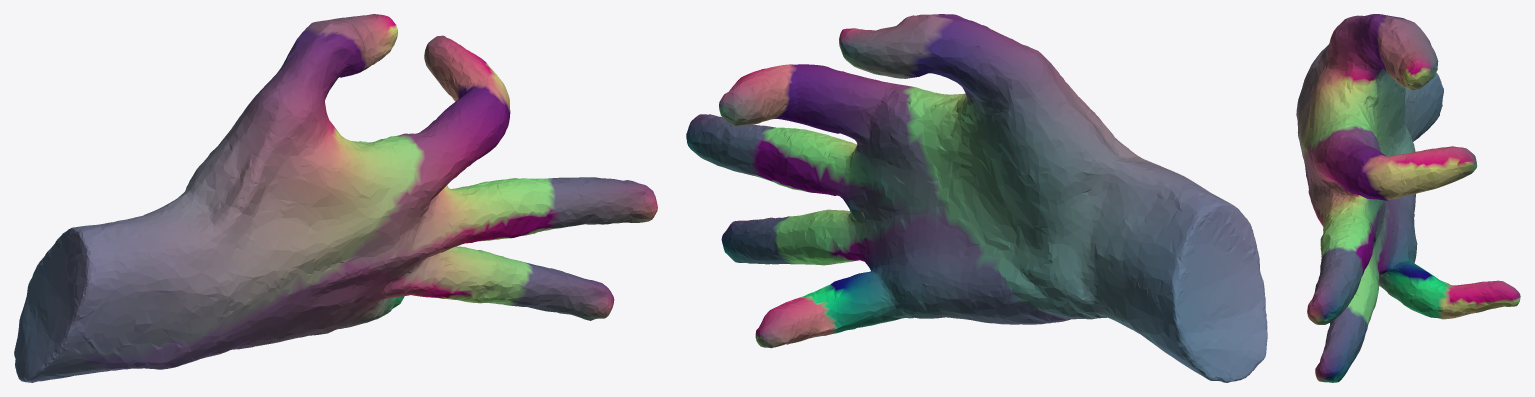
The model's file is hand-17.off.obj.
The picture shows the model from 3 angles, left to right: view 1: azimuth 30°, elevation 25°; view 2: azimuth 150°, elevation 25°; view 3: azimuth 270°, elevation 25°; orthographic projection. The views are drawn at different scales.
Bounding box in the file's own units: 1.75 × 0.9052 × 0.6751.
